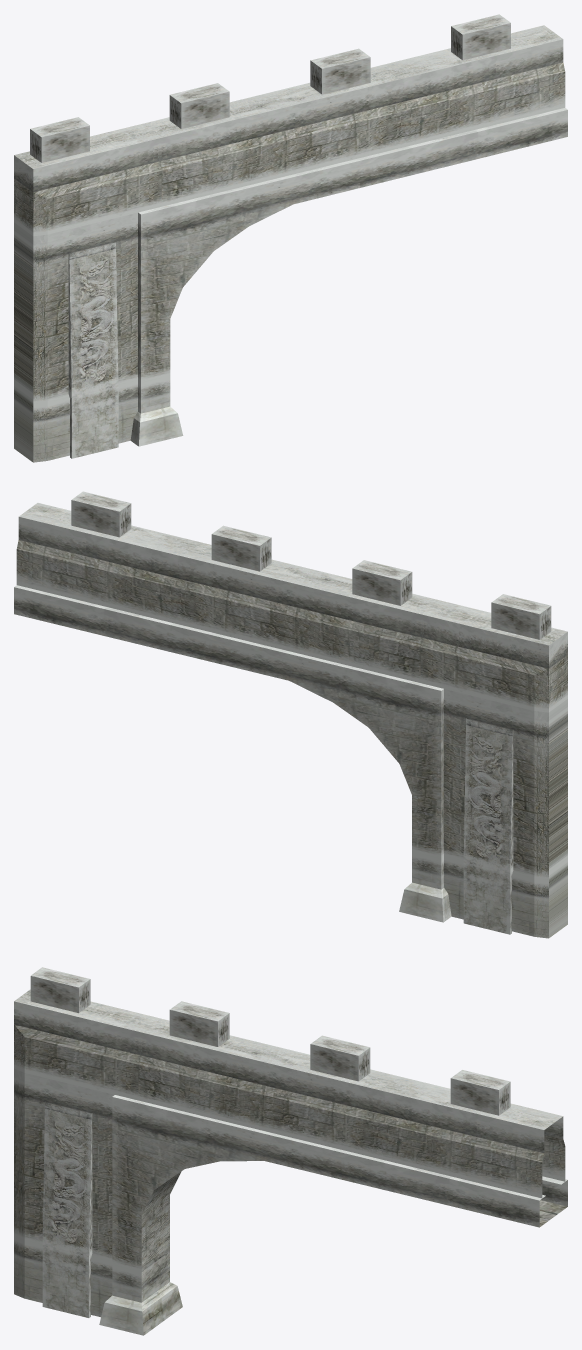
The model's file is snow-bigdam-01.fbx.
3 views of the same model, one above another, from view 1: azimuth 30°, elevation 25°; view 2: azimuth 150°, elevation 25°; view 3: azimuth 330°, elevation 25° (orthographic).
Parts seen in each view (by area): view 1: snow-bigdam-01, snow-bigdam-02; view 2: snow-bigdam-01, snow-bigdam-02; view 3: snow-bigdam-01, snow-bigdam-02.
Boxes of the visible parts, bbox=[...] form: snow-bigdam-01: bbox=[14, 14, 565, 462]; snow-bigdam-02: bbox=[68, 108, 567, 458]; snow-bigdam-01: bbox=[16, 491, 567, 938]; snow-bigdam-02: bbox=[14, 585, 513, 934]; snow-bigdam-01: bbox=[14, 967, 565, 1317]; snow-bigdam-02: bbox=[42, 1095, 567, 1335].
Bounding box in the file's own units: 11.31 × 6.51 × 1.45.
